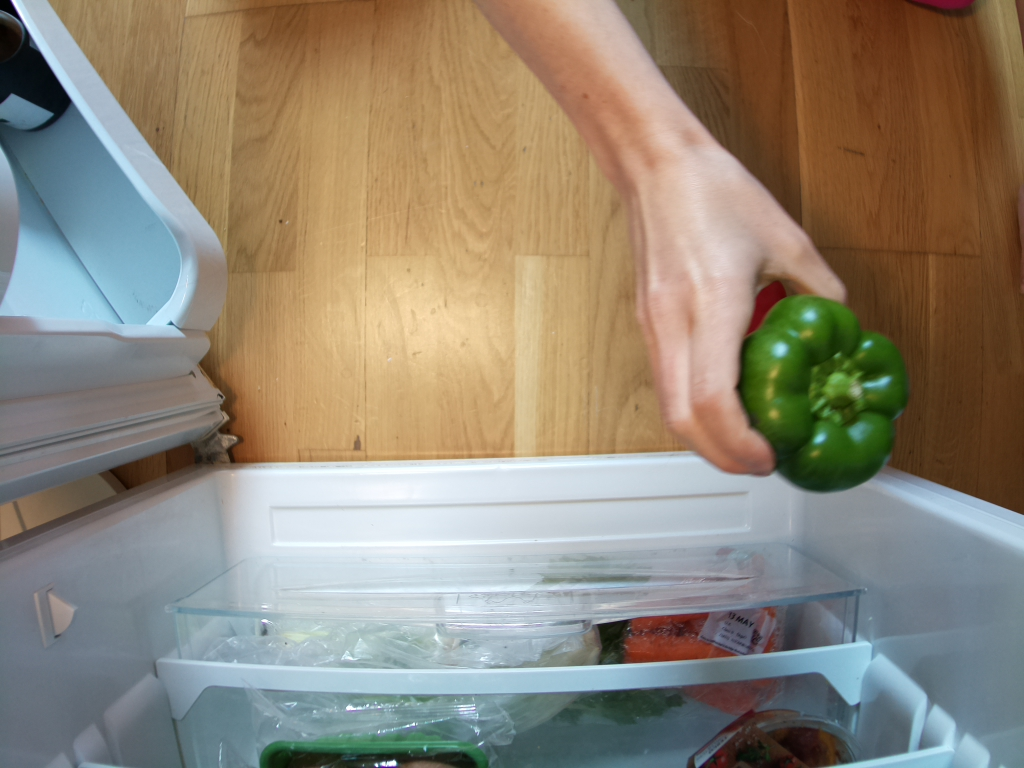pepper: (740, 292, 910, 490)
